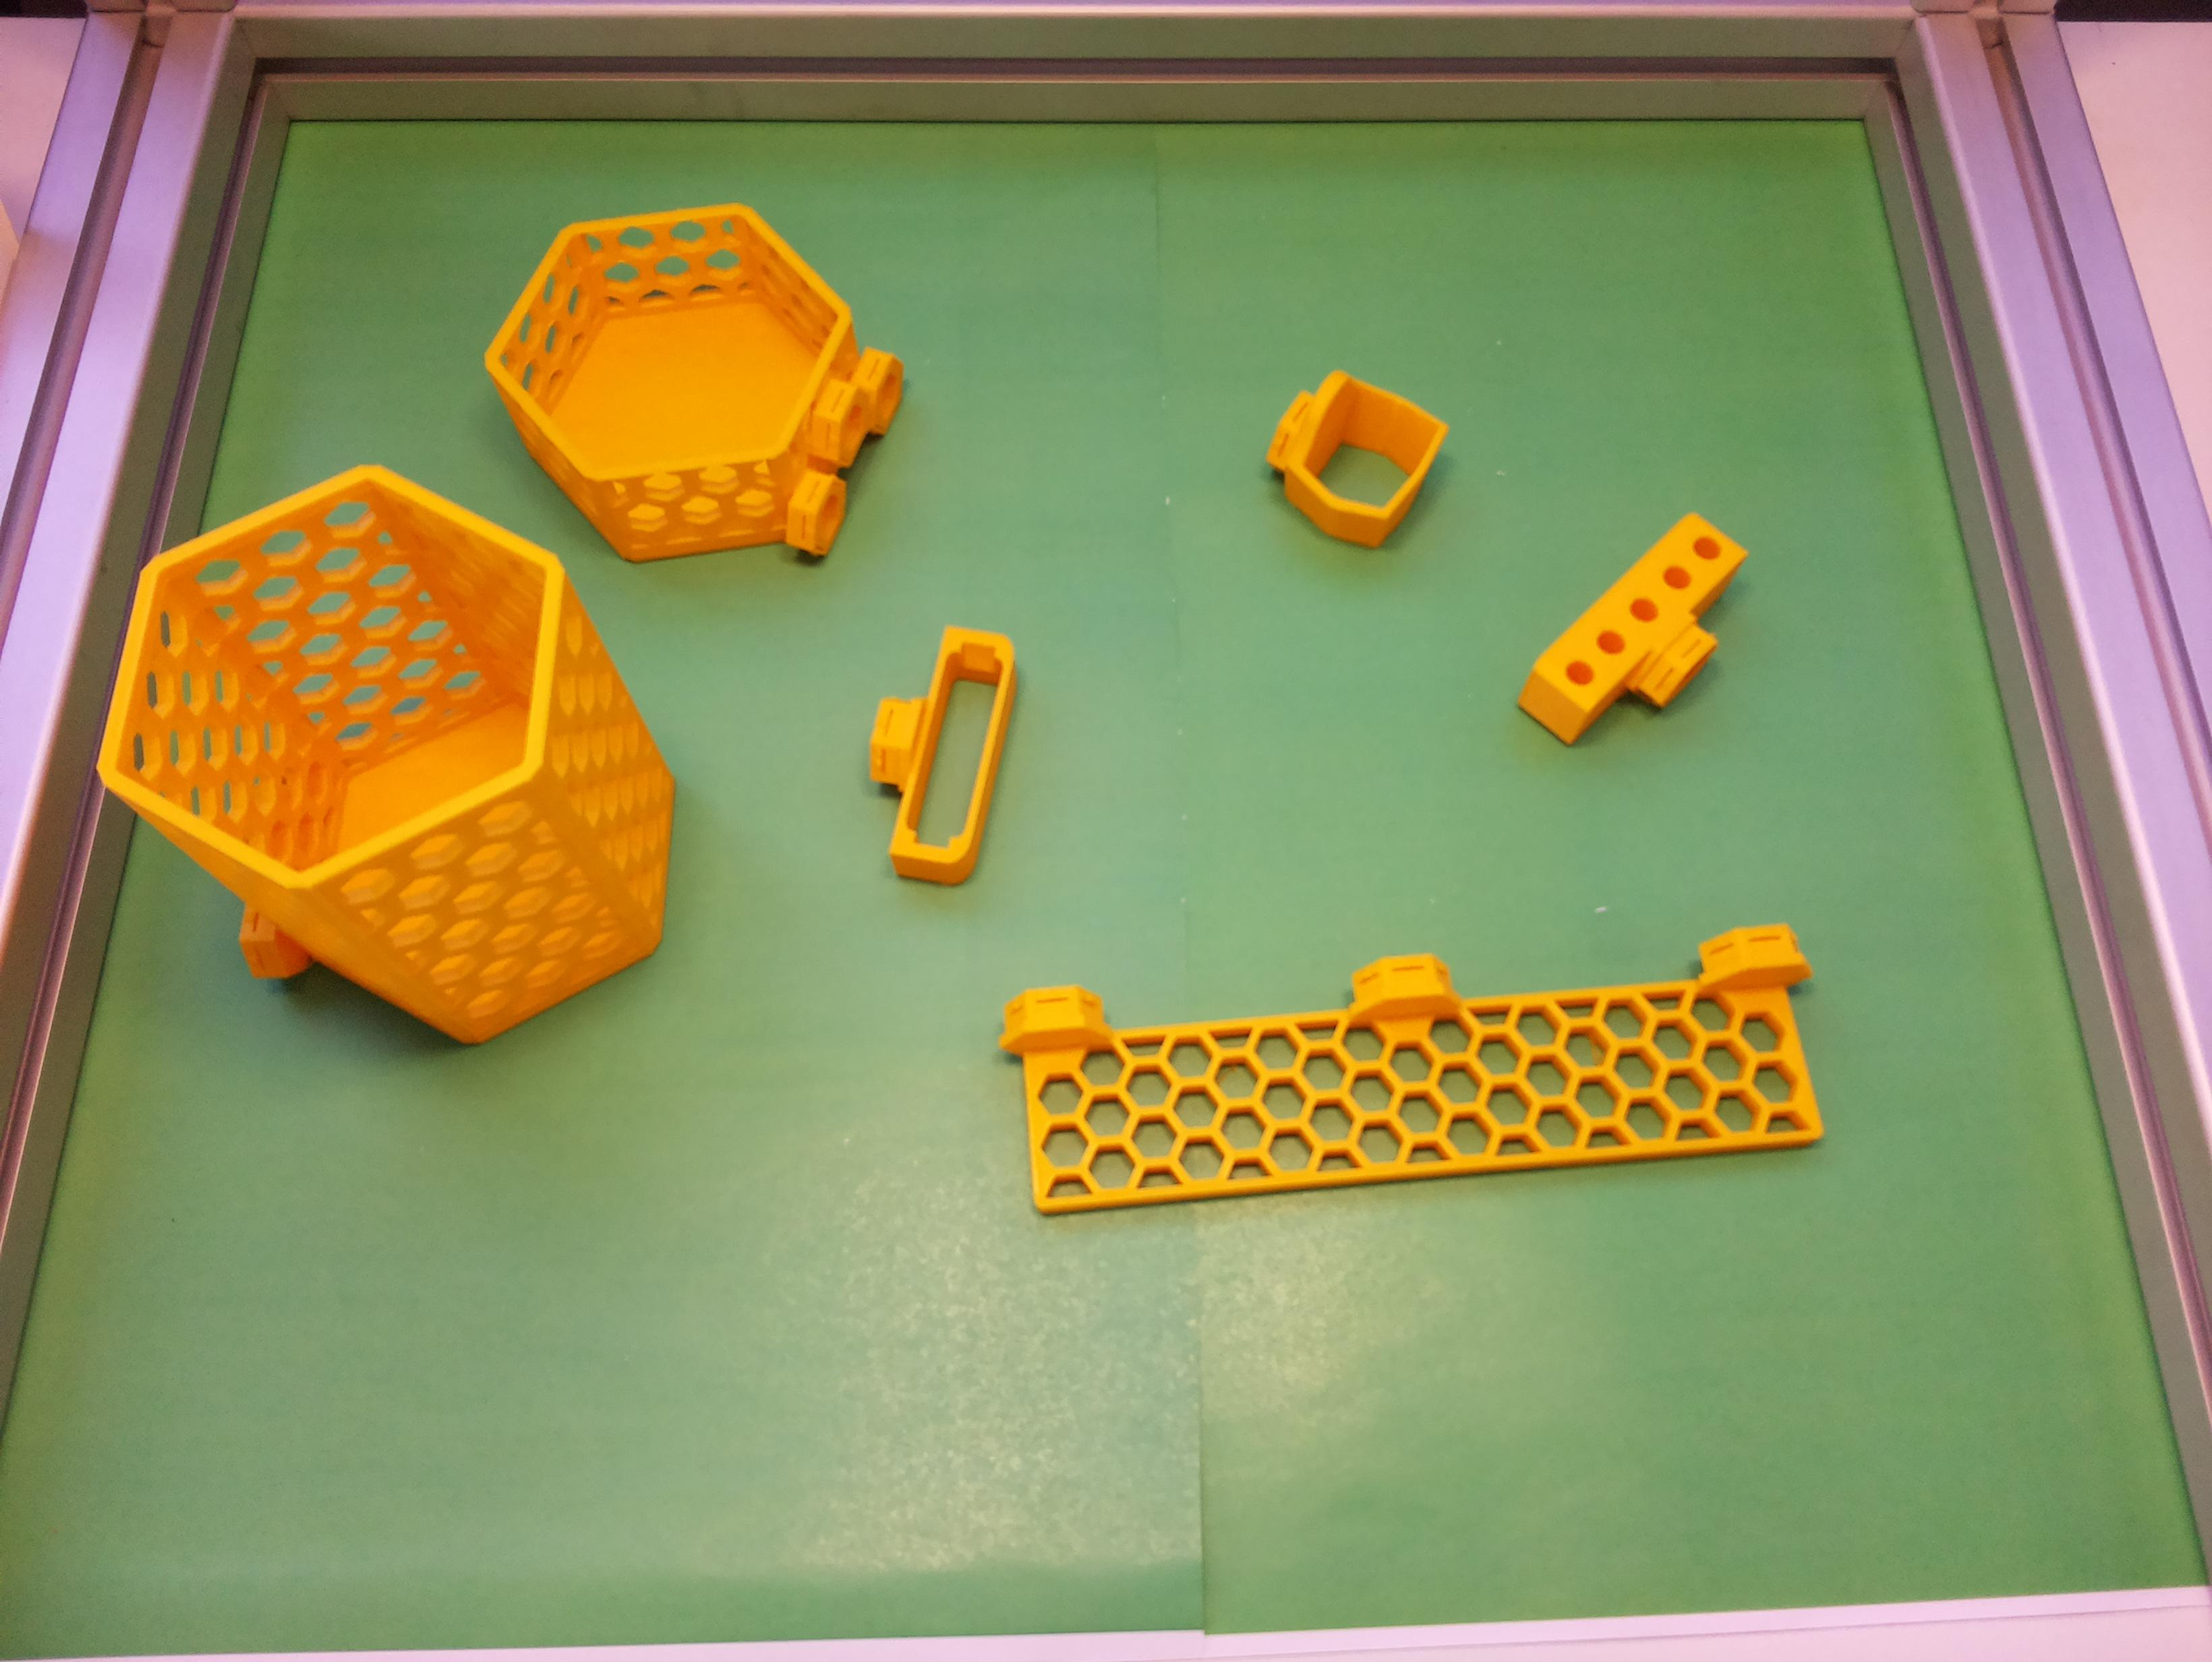bit_holder: (1505, 501, 1783, 777)
bottle_holder: (429, 124, 962, 656)
cup_holder: (23, 395, 738, 1140)
cutter_holder: (842, 611, 1028, 892)
scissor_holder: (1247, 354, 1453, 560)
tool_holder: (997, 920, 1826, 1217)
